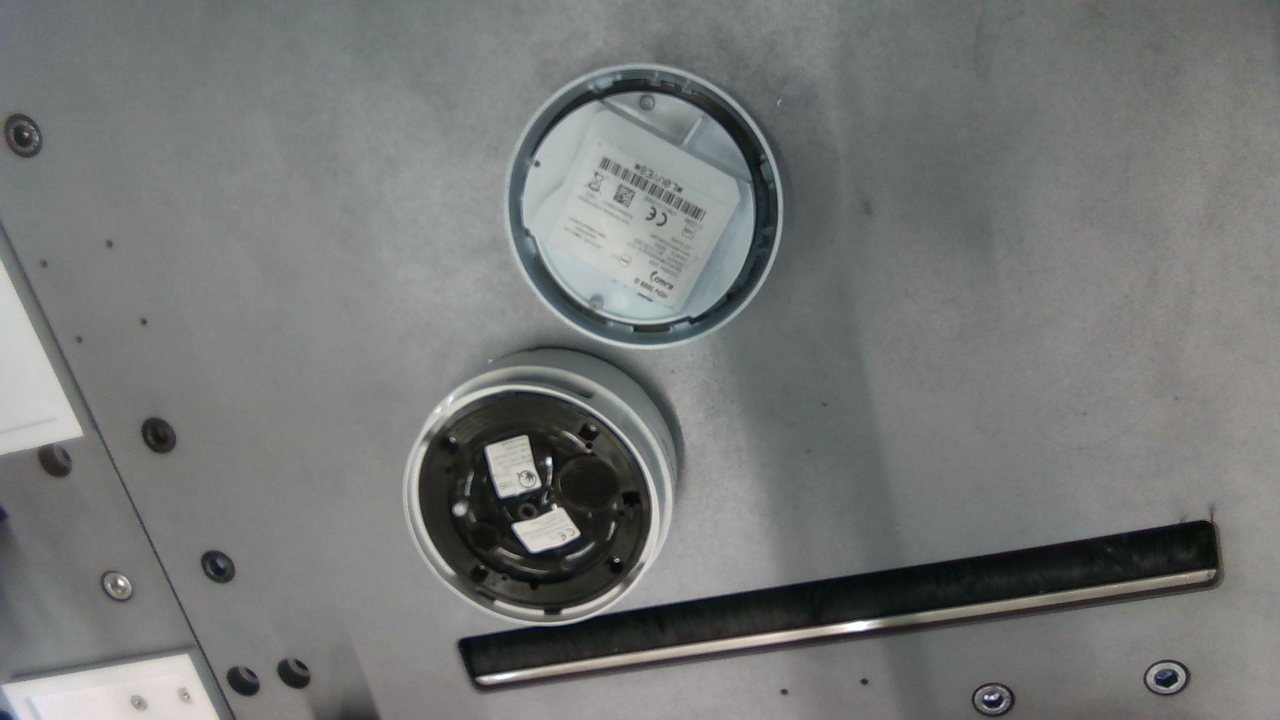HexScrew: (637, 91, 659, 114), (581, 421, 601, 438), (588, 293, 605, 311), (471, 558, 489, 575), (607, 556, 624, 570), (442, 436, 460, 449)
